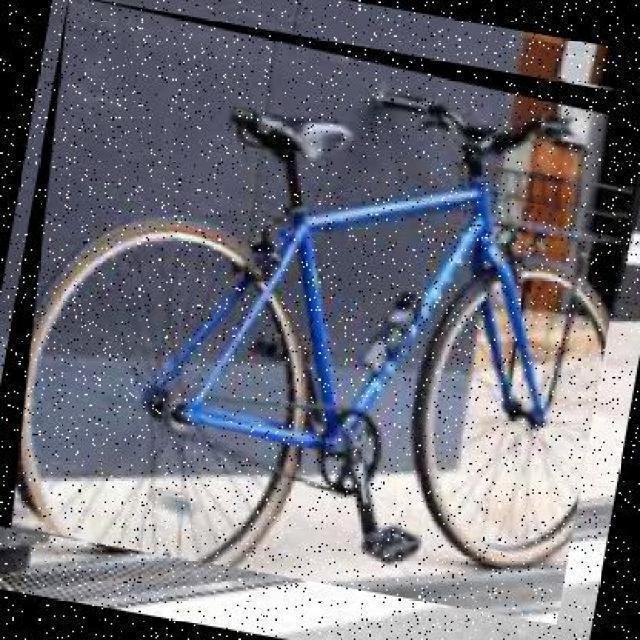bicycle: (1, 1, 639, 628)
